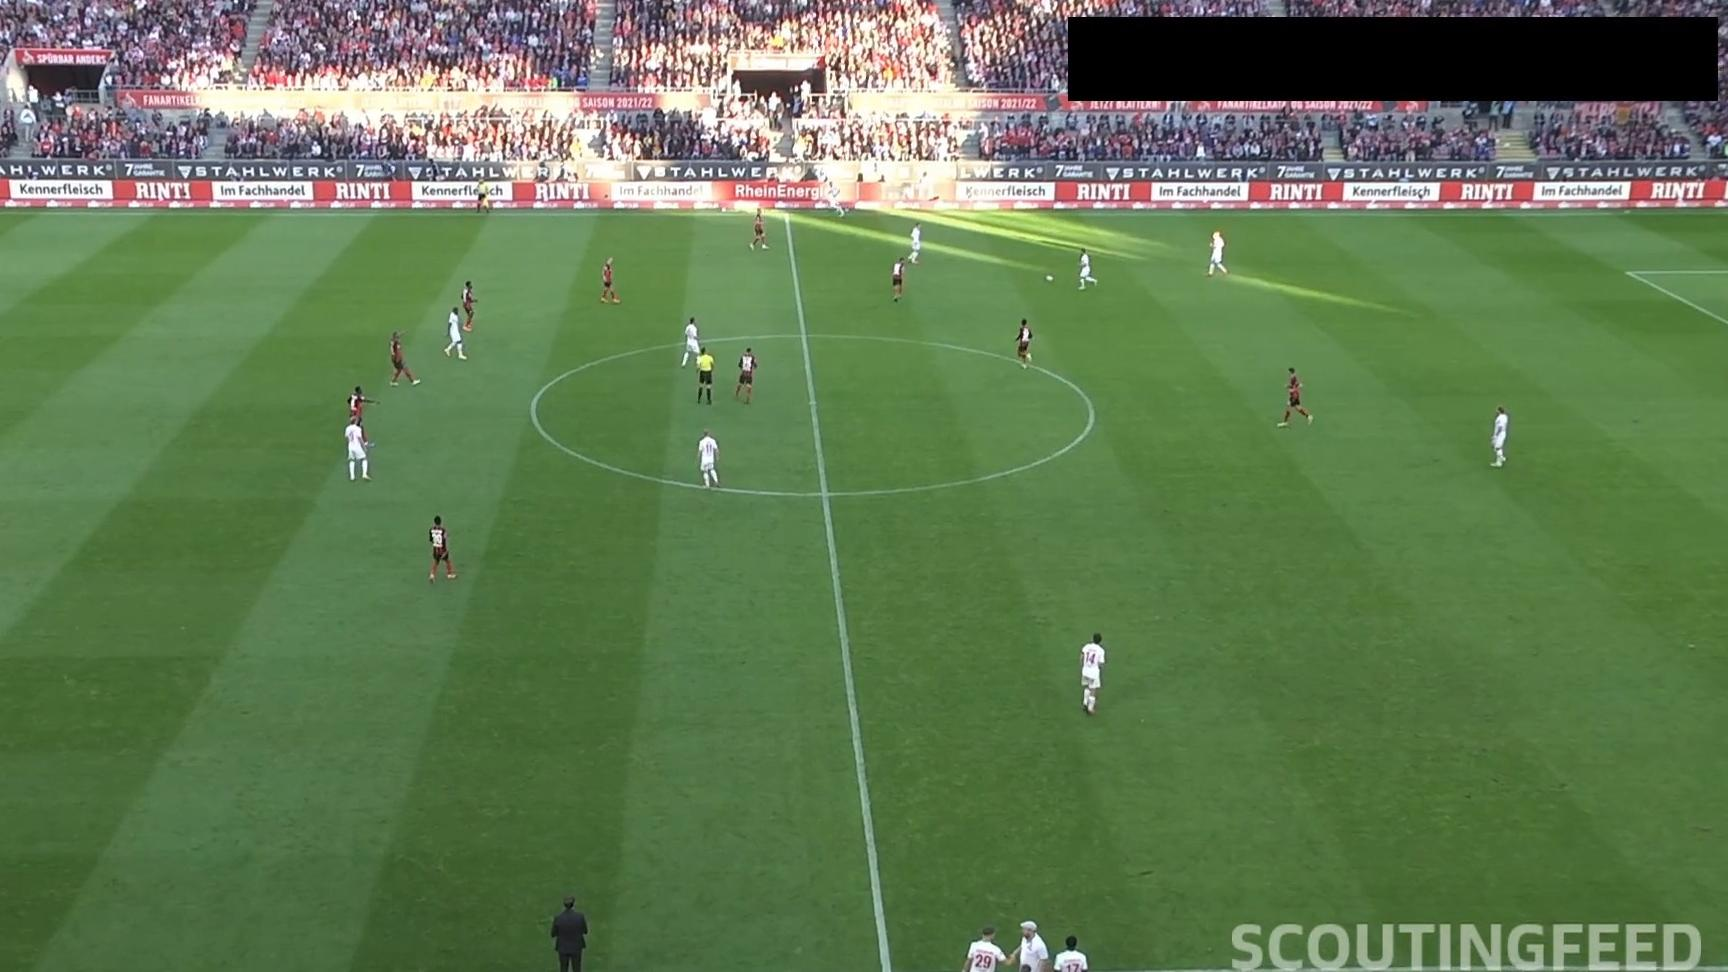ball: (1043, 274, 1055, 285)
